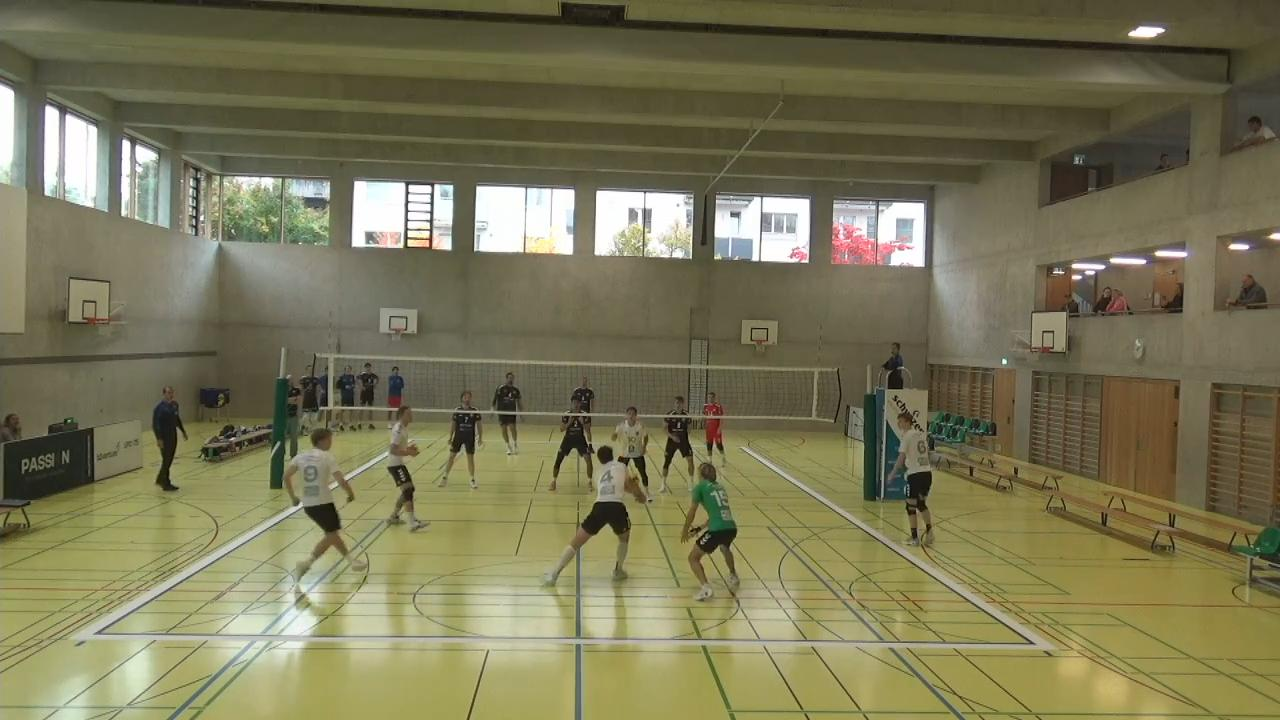ricezione: (539, 442, 646, 586)
